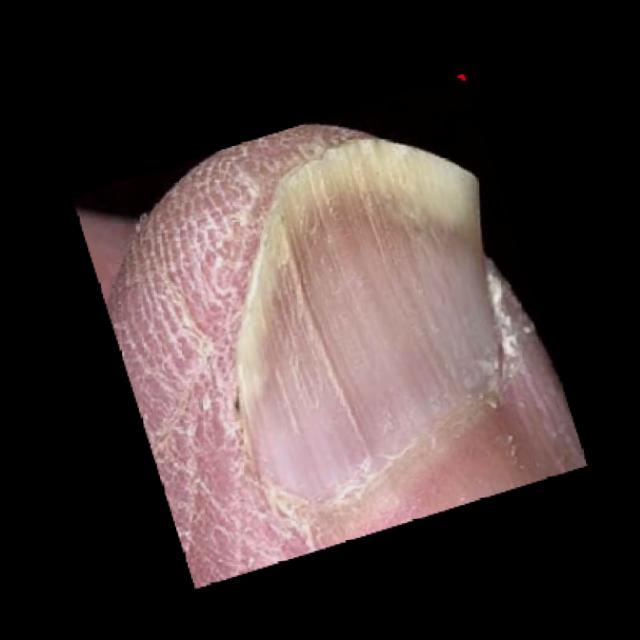Nail: (237, 140, 507, 503)
